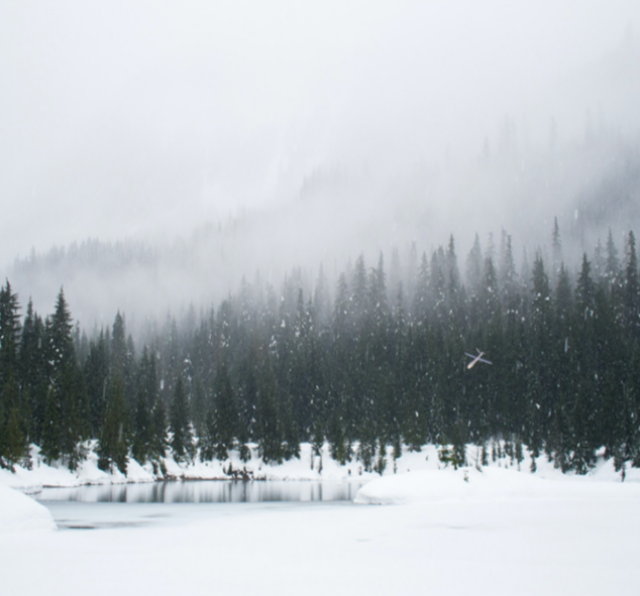military drone: (464, 347, 492, 368)
